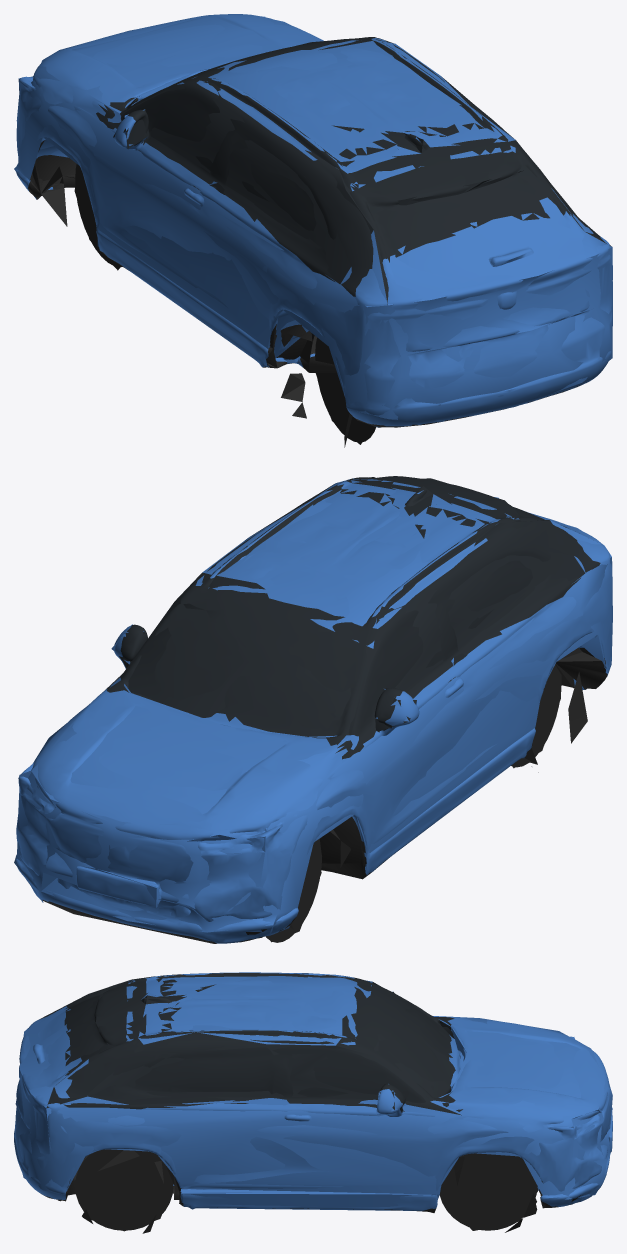
Rendered from honda-hr-v.glb.
3 renders of one model, top to bottom at view 1: azimuth 30°, elevation 25°; view 2: azimuth 150°, elevation 25°; view 3: azimuth 270°, elevation 25°, orthographic. The views are drawn at different scales.
Visible parts, largest first — view 1: body, far; view 2: body, far; view 3: body, far.
Part boxes in pixels (left/top/right/bottom): body: left=16, top=14, right=612, bottom=441; far: left=14, top=16, right=612, bottom=447; body: left=15, top=476, right=612, bottom=943; far: left=14, top=477, right=612, bottom=942; body: left=14, top=972, right=612, bottom=1233; far: left=14, top=973, right=612, bottom=1231.
Bounding box in the file's own units: 1.9 × 1.62 × 4.35.
